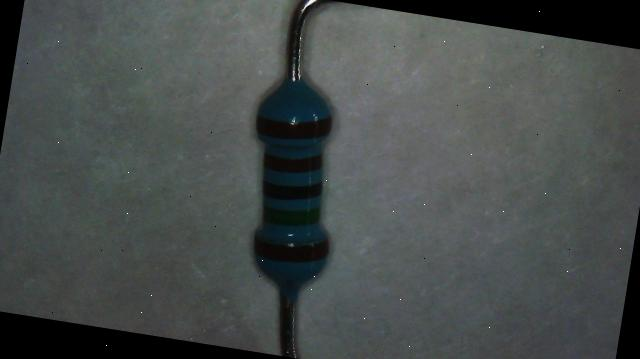black: (262, 173, 322, 204)
brown: (255, 105, 332, 146), (252, 229, 330, 268), (263, 145, 323, 176)
green: (262, 200, 320, 229)
resistor: (224, 58, 356, 309)
